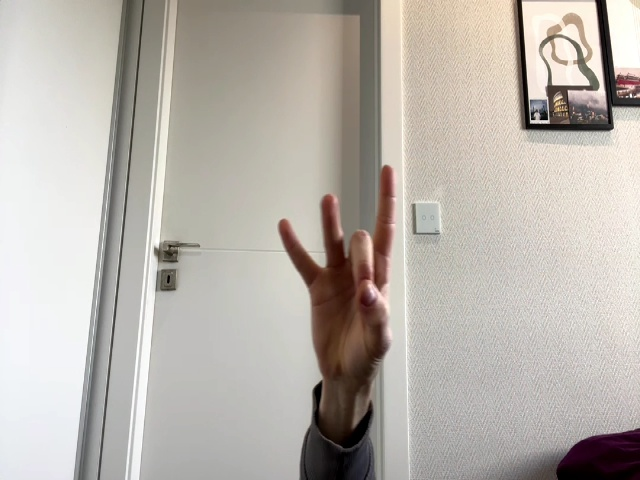G: (279, 165, 396, 379)
